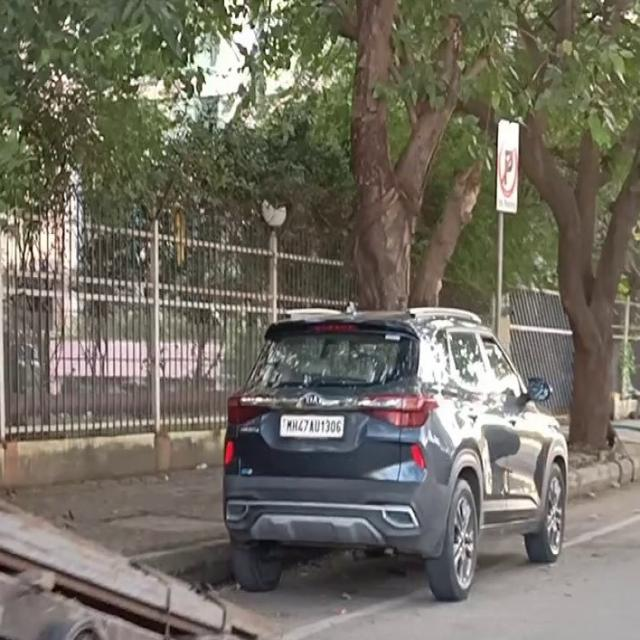Plate: (279, 414, 346, 439)
